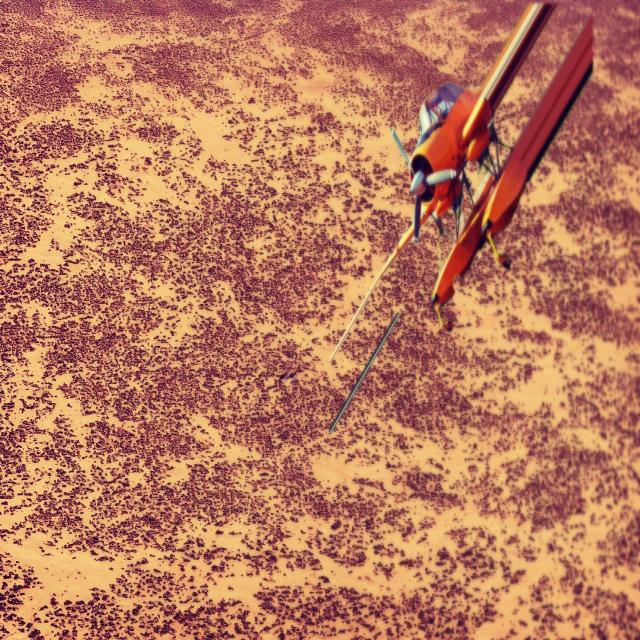airplane: (328, 0, 594, 434)
